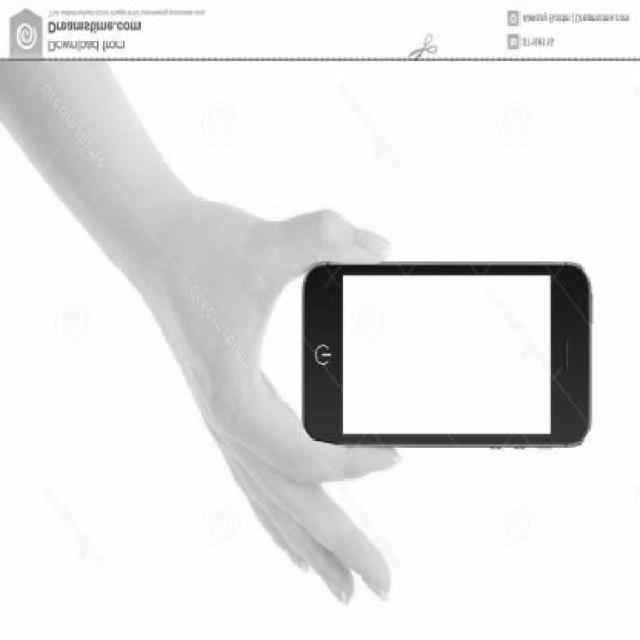fake: (298, 262, 598, 450)
